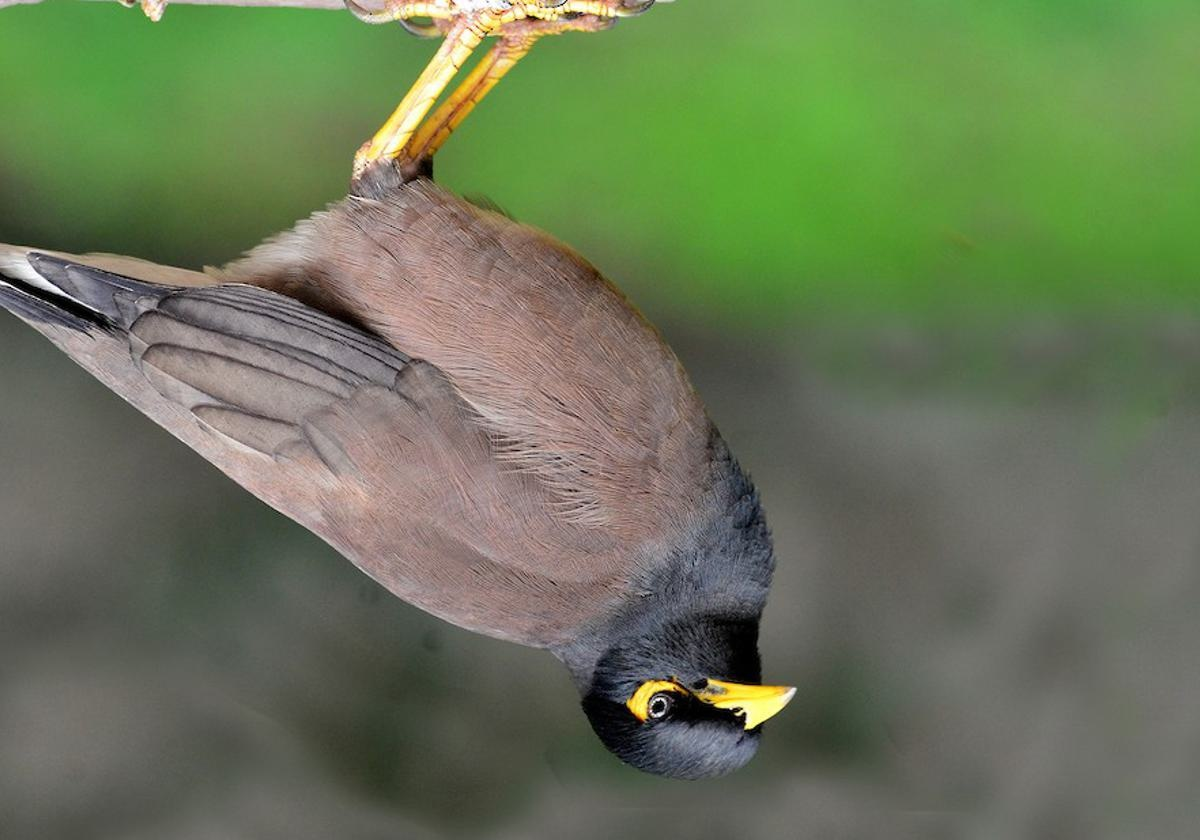myna: (51, 67, 824, 790)
